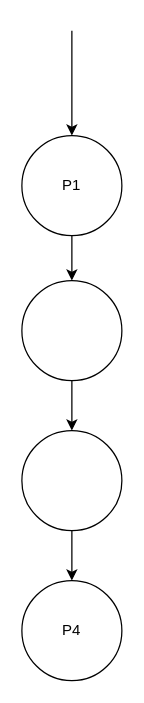
Image size: 144x703. Some labels were removed from this diagram. The shapes that lost their labels are listed below. From the top down, each one's centre as x and y in pixels, then its label:
point (71, 330): P2
point (71, 480): P3
